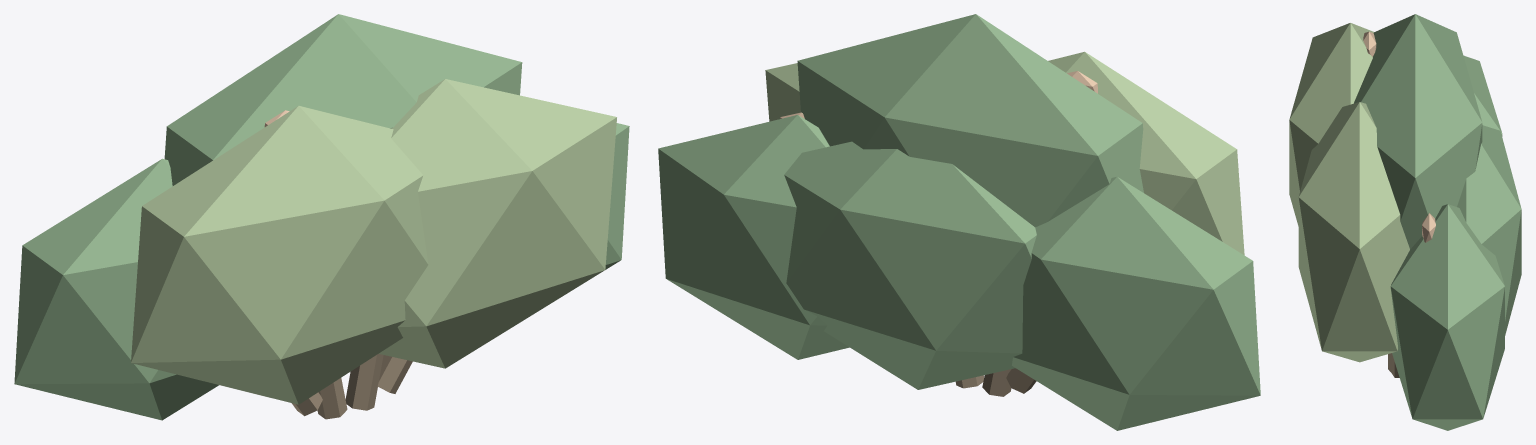
File: SHRUB_COASTAL_LOW_001_v002_LOD_GAMEPLAY.glb
The picture shows the model from 3 angles, left to right: view 1: azimuth 30°, elevation 25°; view 2: azimuth 150°, elevation 25°; view 3: azimuth 270°, elevation 25°; orthographic projection. The views are drawn at different scales.
Visible parts, largest first — view 1: SHRUB_COASTAL_LOW_001_LOD_GAMEPLAY_CLUSTER_002, SHRUB_COASTAL_LOW_001_LOD_GAMEPLAY_CLUSTER_004, SHRUB_COASTAL_LOW_001_LOD_GAMEPLAY_CLUSTER_001, SHRUB_COASTAL_LOW_001_LOD_GAMEPLAY_CLUSTER_003, SHRUB_COASTAL_LOW_001_LOD_GAMEPLAY_CLUSTER_005, SHRUB_COASTAL_LOW_001_LOD_GAMEPLAY_BRANCH_003, SHRUB_COASTAL_LOW_001_LOD_GAMEPLAY_BRANCH_004, SHRUB_COASTAL_LOW_001_LOD_GAMEPLAY_BRANCH_002; view 2: SHRUB_COASTAL_LOW_001_LOD_GAMEPLAY_CLUSTER_007, SHRUB_COASTAL_LOW_001_LOD_GAMEPLAY_CLUSTER_001, SHRUB_COASTAL_LOW_001_LOD_GAMEPLAY_CLUSTER_003, SHRUB_COASTAL_LOW_001_LOD_GAMEPLAY_CLUSTER_005, SHRUB_COASTAL_LOW_001_LOD_GAMEPLAY_CLUSTER_002, SHRUB_COASTAL_LOW_001_LOD_GAMEPLAY_CLUSTER_004, SHRUB_COASTAL_LOW_001_LOD_GAMEPLAY_BRANCH_002; view 3: SHRUB_COASTAL_LOW_001_LOD_GAMEPLAY_CLUSTER_004, SHRUB_COASTAL_LOW_001_LOD_GAMEPLAY_CLUSTER_005, SHRUB_COASTAL_LOW_001_LOD_GAMEPLAY_CLUSTER_003, SHRUB_COASTAL_LOW_001_LOD_GAMEPLAY_CLUSTER_002, SHRUB_COASTAL_LOW_001_LOD_GAMEPLAY_CLUSTER_007, SHRUB_COASTAL_LOW_001_LOD_GAMEPLAY_CLUSTER_001, SHRUB_COASTAL_LOW_001_LOD_GAMEPLAY_FLOWER_005, SHRUB_COASTAL_LOW_001_LOD_GAMEPLAY_FLOWER_002.
Boxes of the visible parts, x1=… form: SHRUB_COASTAL_LOW_001_LOD_GAMEPLAY_CLUSTER_002: x1=131, y1=105, x2=428, y2=404; SHRUB_COASTAL_LOW_001_LOD_GAMEPLAY_CLUSTER_004: x1=379, y1=79, x2=616, y2=368; SHRUB_COASTAL_LOW_001_LOD_GAMEPLAY_CLUSTER_001: x1=14, y1=158, x2=218, y2=420; SHRUB_COASTAL_LOW_001_LOD_GAMEPLAY_CLUSTER_003: x1=164, y1=14, x2=522, y2=185; SHRUB_COASTAL_LOW_001_LOD_GAMEPLAY_CLUSTER_005: x1=605, y1=123, x2=629, y2=269; SHRUB_COASTAL_LOW_001_LOD_GAMEPLAY_BRANCH_003: x1=345, y1=354, x2=383, y2=410; SHRUB_COASTAL_LOW_001_LOD_GAMEPLAY_BRANCH_004: x1=377, y1=355, x2=412, y2=393; SHRUB_COASTAL_LOW_001_LOD_GAMEPLAY_BRANCH_002: x1=317, y1=378, x2=347, y2=419; SHRUB_COASTAL_LOW_001_LOD_GAMEPLAY_CLUSTER_007: x1=784, y1=141, x2=1036, y2=389; SHRUB_COASTAL_LOW_001_LOD_GAMEPLAY_CLUSTER_001: x1=1012, y1=177, x2=1260, y2=430; SHRUB_COASTAL_LOW_001_LOD_GAMEPLAY_CLUSTER_003: x1=797, y1=14, x2=1143, y2=227; SHRUB_COASTAL_LOW_001_LOD_GAMEPLAY_CLUSTER_005: x1=658, y1=115, x2=849, y2=359; SHRUB_COASTAL_LOW_001_LOD_GAMEPLAY_CLUSTER_002: x1=1048, y1=51, x2=1244, y2=255; SHRUB_COASTAL_LOW_001_LOD_GAMEPLAY_CLUSTER_004: x1=765, y1=63, x2=800, y2=121; SHRUB_COASTAL_LOW_001_LOD_GAMEPLAY_BRANCH_002: x1=982, y1=369, x2=1011, y2=396; SHRUB_COASTAL_LOW_001_LOD_GAMEPLAY_CLUSTER_004: x1=1298, y1=102, x2=1409, y2=362; SHRUB_COASTAL_LOW_001_LOD_GAMEPLAY_CLUSTER_005: x1=1390, y1=204, x2=1504, y2=430; SHRUB_COASTAL_LOW_001_LOD_GAMEPLAY_CLUSTER_003: x1=1354, y1=14, x2=1482, y2=249; SHRUB_COASTAL_LOW_001_LOD_GAMEPLAY_CLUSTER_002: x1=1289, y1=23, x2=1374, y2=226; SHRUB_COASTAL_LOW_001_LOD_GAMEPLAY_CLUSTER_007: x1=1457, y1=125, x2=1521, y2=335; SHRUB_COASTAL_LOW_001_LOD_GAMEPLAY_CLUSTER_001: x1=1463, y1=55, x2=1502, y2=136; SHRUB_COASTAL_LOW_001_LOD_GAMEPLAY_FLOWER_005: x1=1422, y1=213, x2=1435, y2=242; SHRUB_COASTAL_LOW_001_LOD_GAMEPLAY_FLOWER_002: x1=1363, y1=31, x2=1376, y2=56.
Size of the model in its own units: 2.77 by 1.76 by 1.
